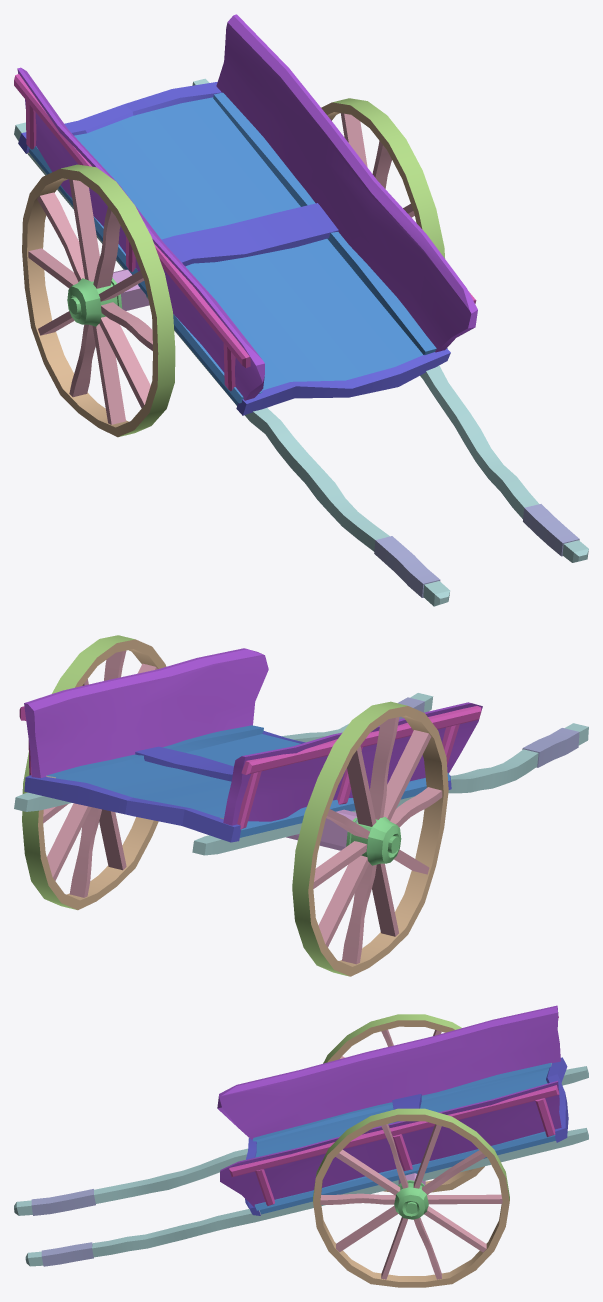
The model's file is Carriage.fbx.
3 renders of one model, top to bottom at view 1: azimuth 30°, elevation 25°; view 2: azimuth 150°, elevation 25°; view 3: azimuth 270°, elevation 25°, orthographic. The views are drawn at different scales.
Parts seen in each view (by area): view 1: Cube.010, Cylinder.027, Cube.012; view 2: Cube.010, Cylinder.027, Cube.012; view 3: Cube.010, Cylinder.027, Cube.012.
Part boxes in pixels (left/top/right/bottom): Cube.010: left=14, top=14, right=477, bottom=415; Cylinder.027: left=22, top=98, right=445, bottom=437; Cube.012: left=14, top=78, right=588, bottom=606; Cube.010: left=19, top=648, right=482, bottom=842; Cylinder.027: left=22, top=635, right=448, bottom=976; Cube.012: left=14, top=693, right=588, bottom=855; Cube.010: left=217, top=1005, right=568, bottom=1215; Cylinder.027: left=313, top=1014, right=509, bottom=1287; Cube.012: left=14, top=1066, right=588, bottom=1266.
Bounding box in the file's own units: 259 × 209 × 564.
